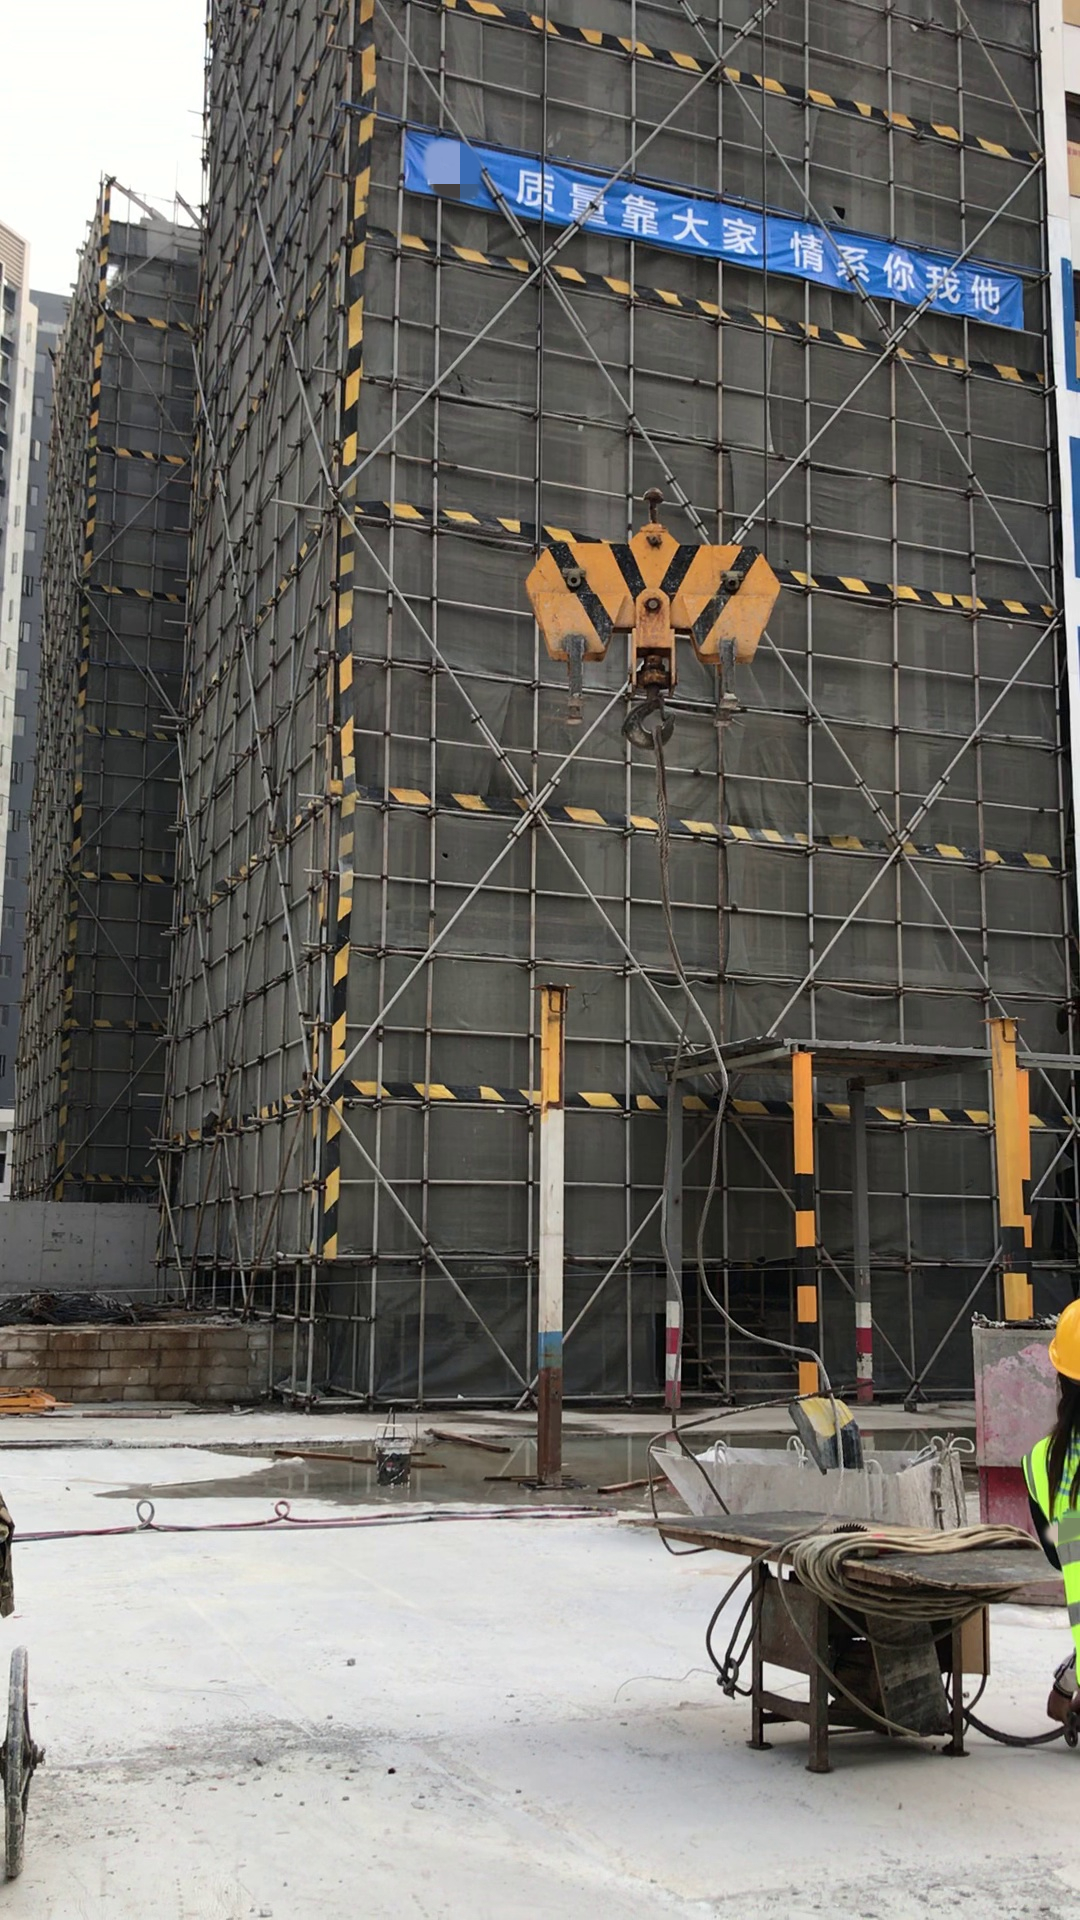cutter: (634, 1505, 1037, 1784)
helmet: (1043, 1300, 1080, 1380)
hook: (517, 480, 777, 755)
hopper: (649, 1425, 975, 1529)
person: (1010, 1288, 1080, 1688)
slogan: (460, 155, 1015, 327)
vest: (1026, 1431, 1080, 1644)
